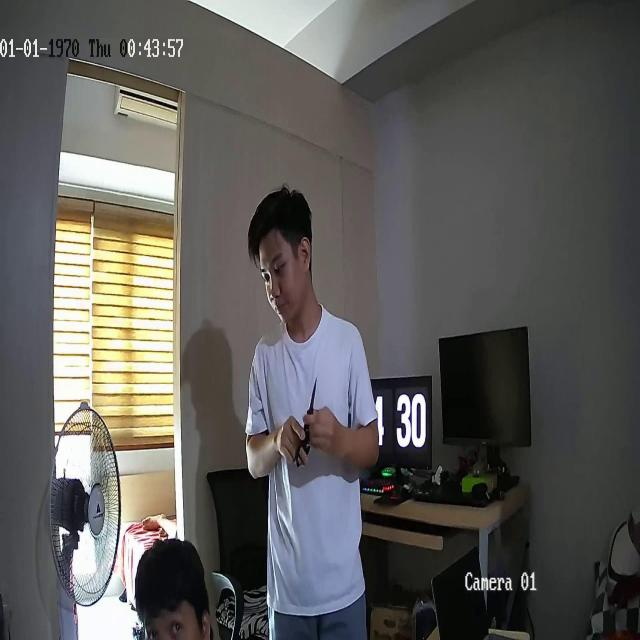scissor: (295, 378, 317, 468)
